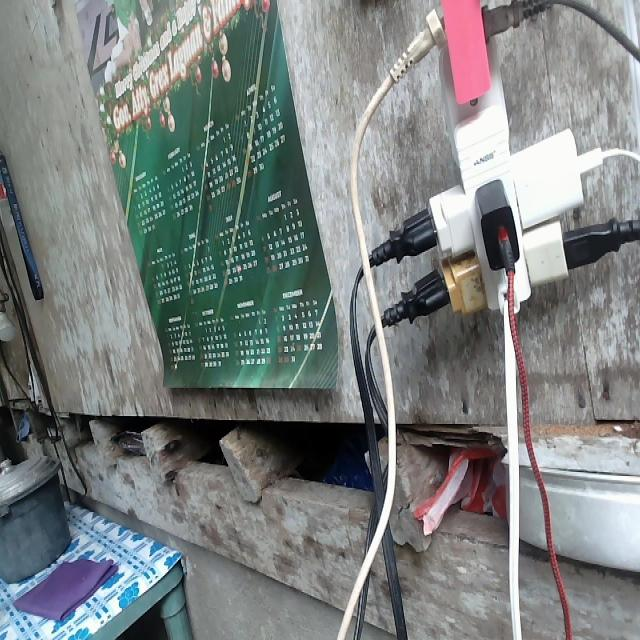-: (389, 0, 598, 320)
